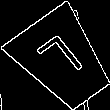L_SE: (34, 31, 91, 90)
